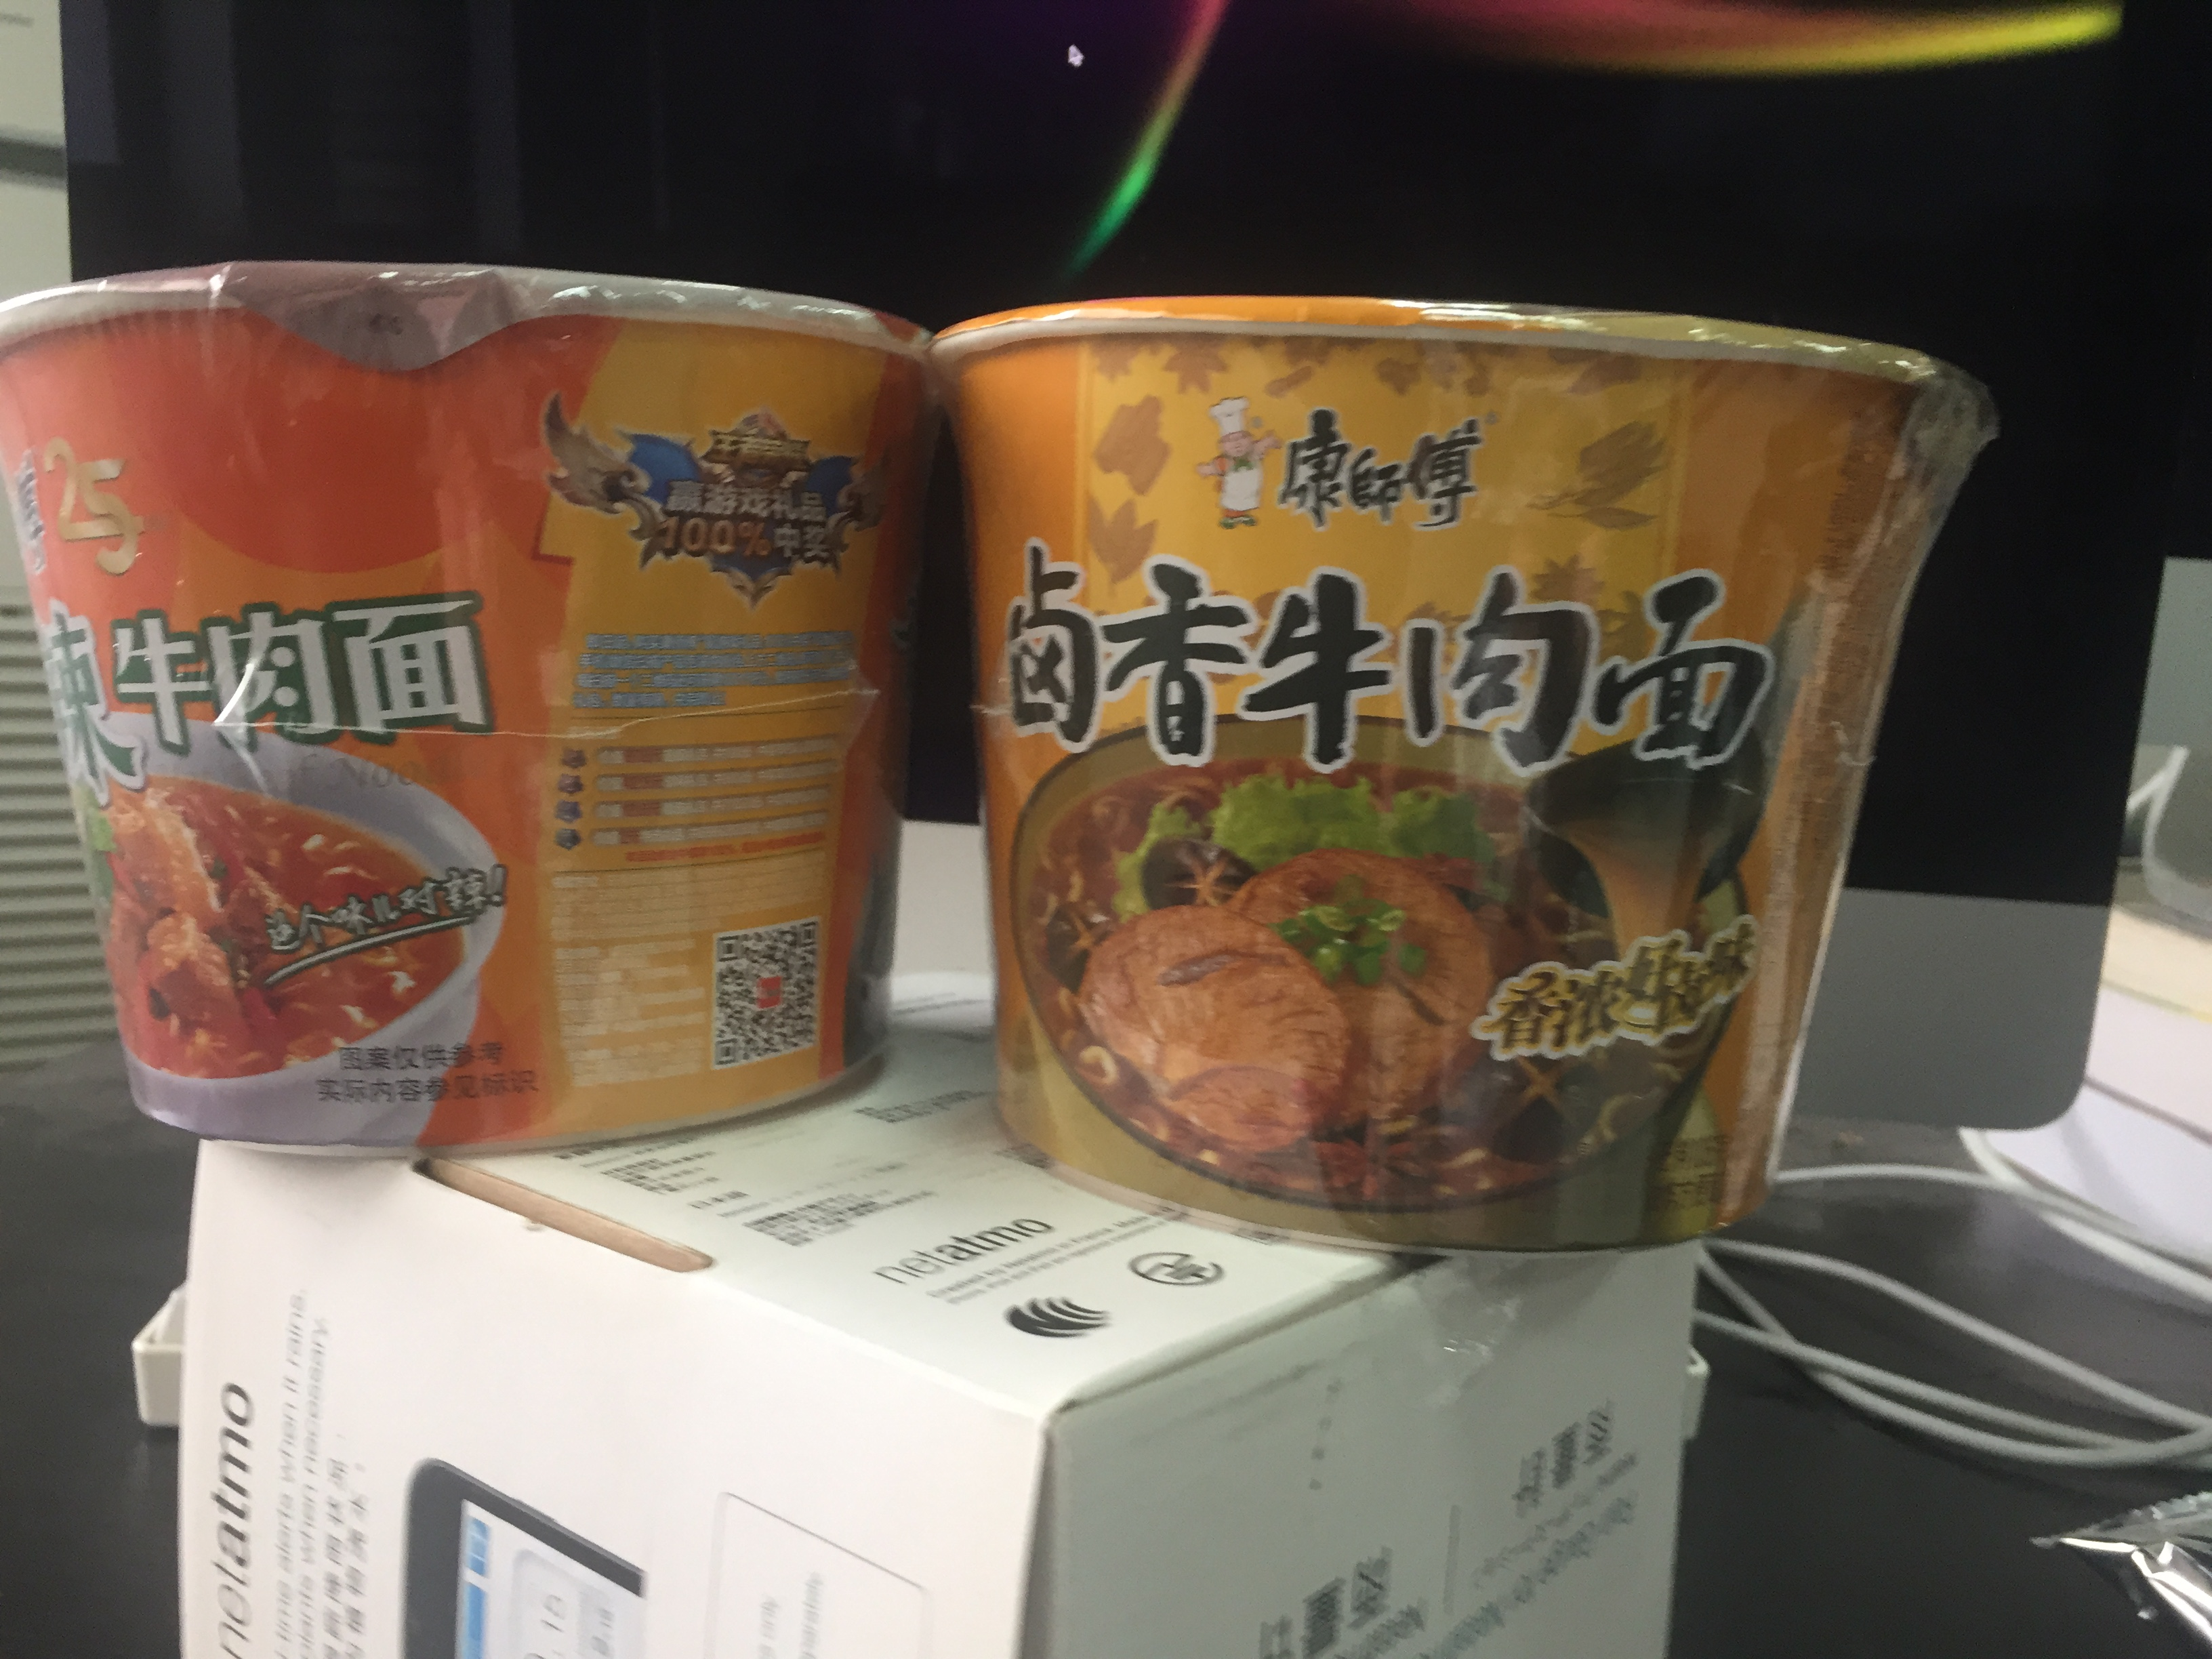luxiang: (928, 293, 2012, 1258)
xiangla: (0, 256, 928, 1166)
